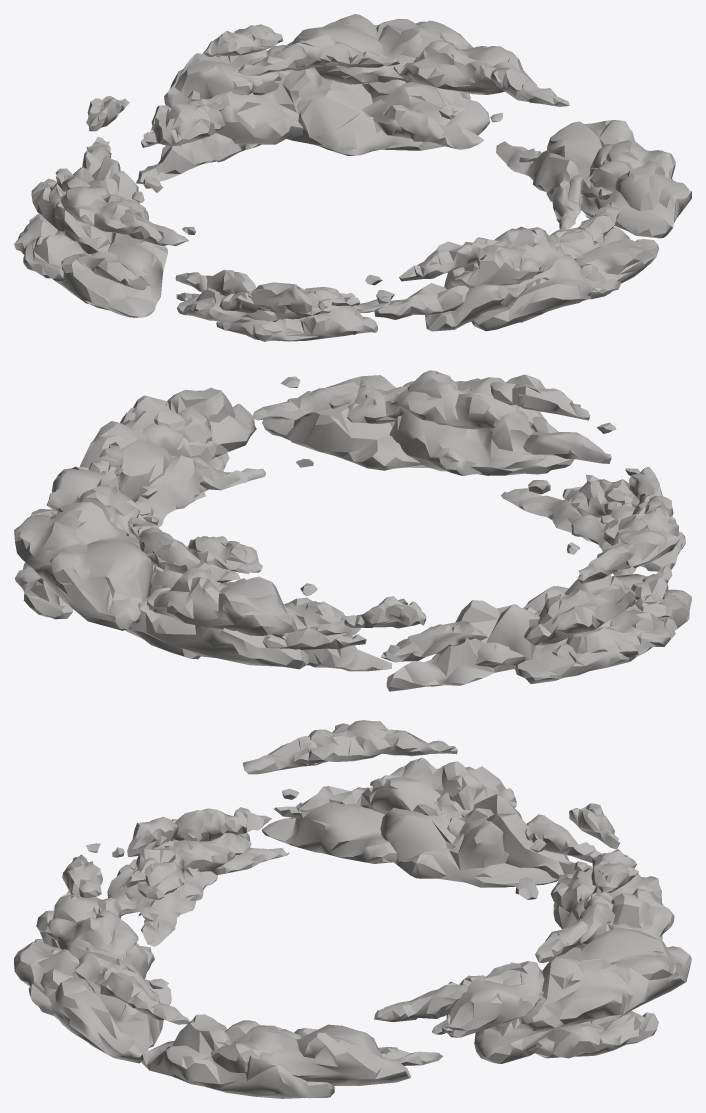
File: samurai_SM_Env_Cloud_Ring_01.gltf
3 views of the same model, one above another, from view 1: azimuth 30°, elevation 25°; view 2: azimuth 150°, elevation 25°; view 3: azimuth 270°, elevation 25° (orthographic). The views are drawn at different scales.
Visible parts, largest first — view 1: SM_Env_Cloud_Ring_01; view 2: SM_Env_Cloud_Ring_01; view 3: SM_Env_Cloud_Ring_01.
Part boxes in pixels (x1=…): SM_Env_Cloud_Ring_01: x1=14, y1=14, x2=691, y2=341; SM_Env_Cloud_Ring_01: x1=14, y1=370, x2=691, y2=691; SM_Env_Cloud_Ring_01: x1=14, y1=720, x2=691, y2=1098.
Size of the model in its own units: 310 by 54.41 by 295.
Materials: 1 (1 with a texture image).
